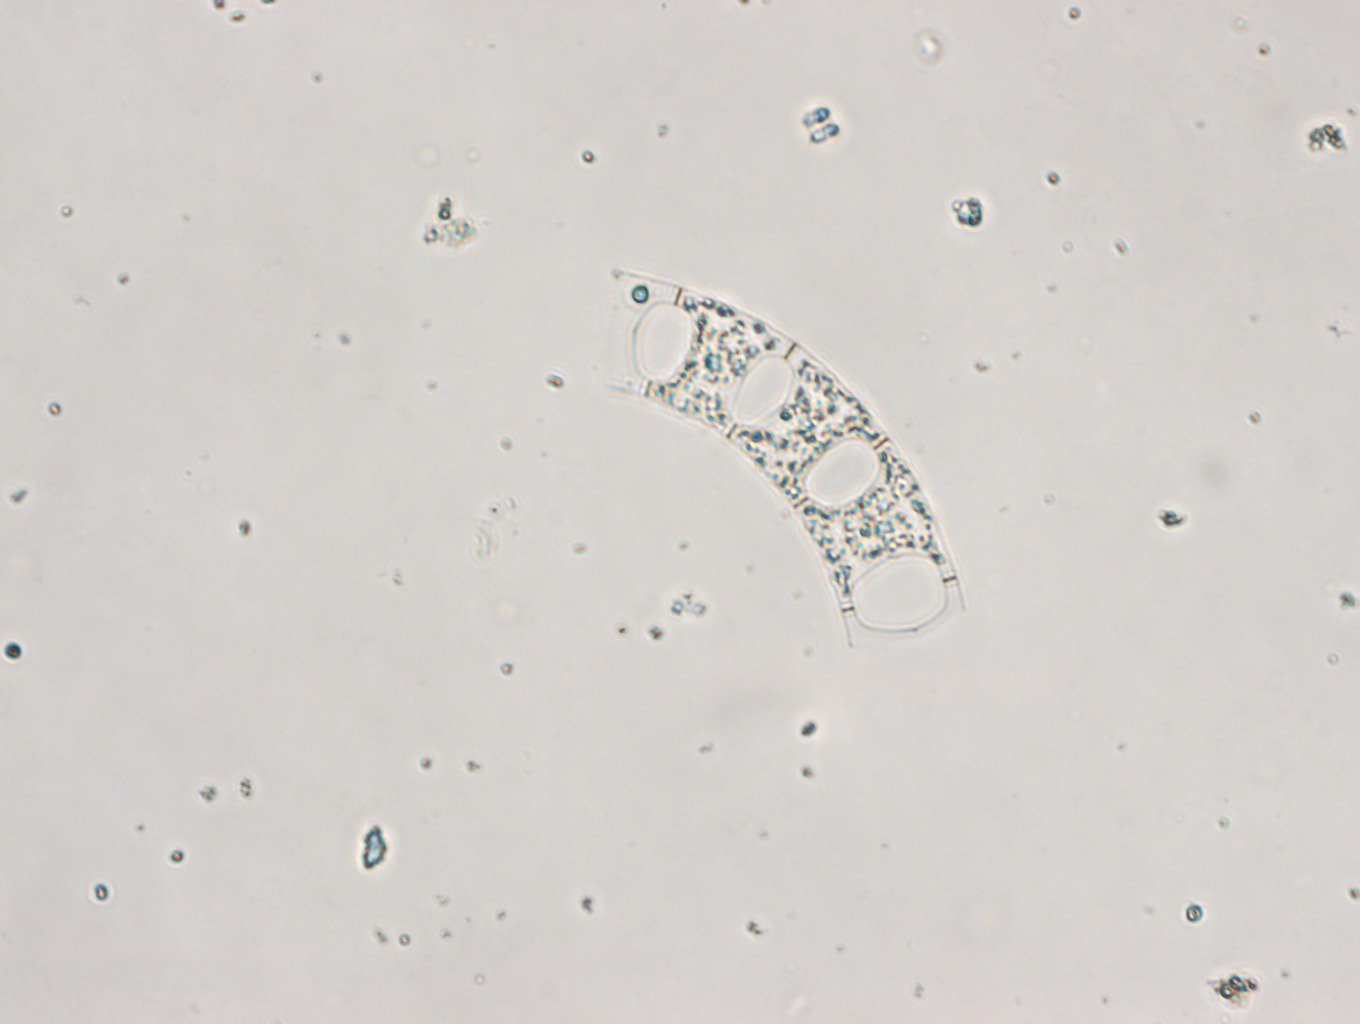eucampia: (592, 264, 971, 650)
